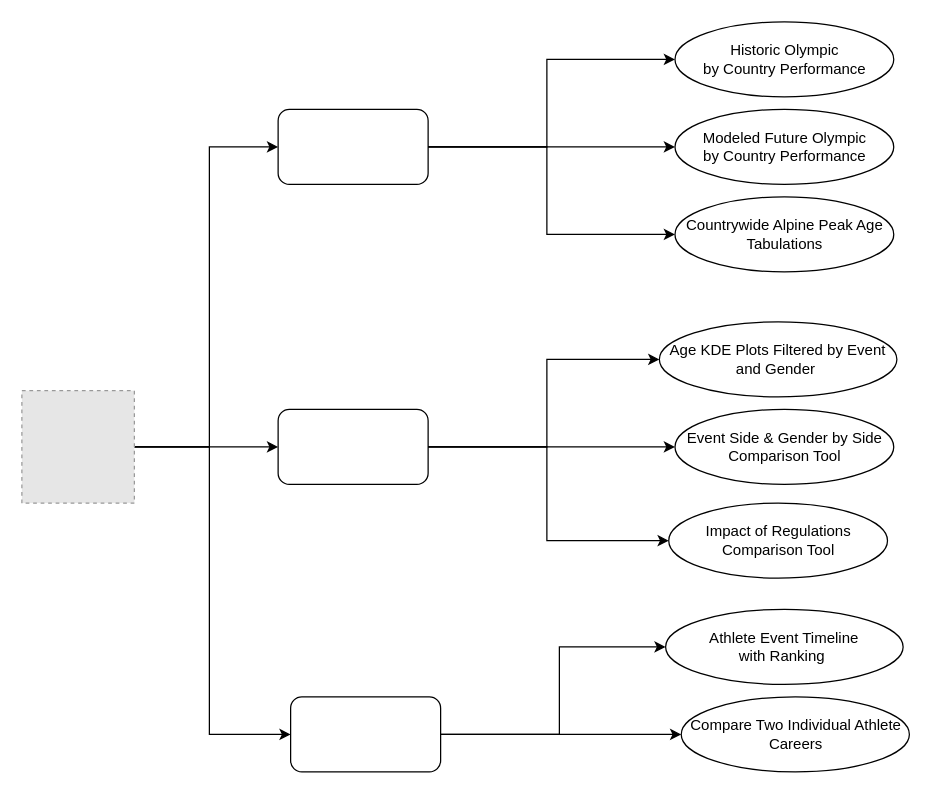
The diagram is 931 pixels wide and 794 high, and some of its shapes have lost their labels. Grey dashed boxes stand in for pictures. The centre of each missing label's shape, as x and y in pixels:
Dashboard #1 Country Pipeline Overview: (x=352, y=146)
Dashboard #2 Event Level Age Analysis: (x=352, y=446)
Dashboard #3 Individual Athlete Career Analysis: (x=365, y=734)
